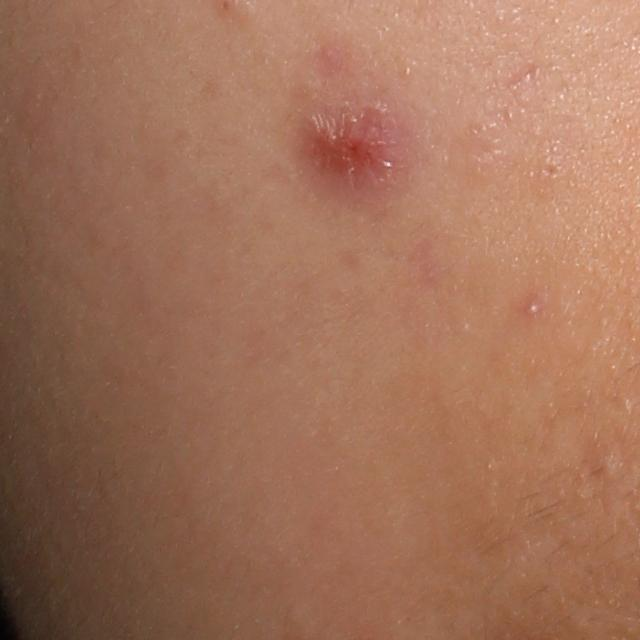comedo: (598, 453, 620, 477)
papule: (291, 95, 409, 187), (521, 301, 542, 319)
